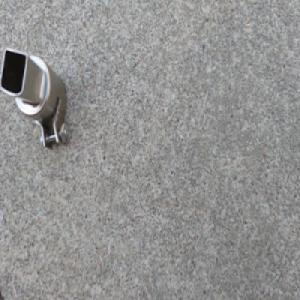MetalPart: (0, 44, 70, 150)
